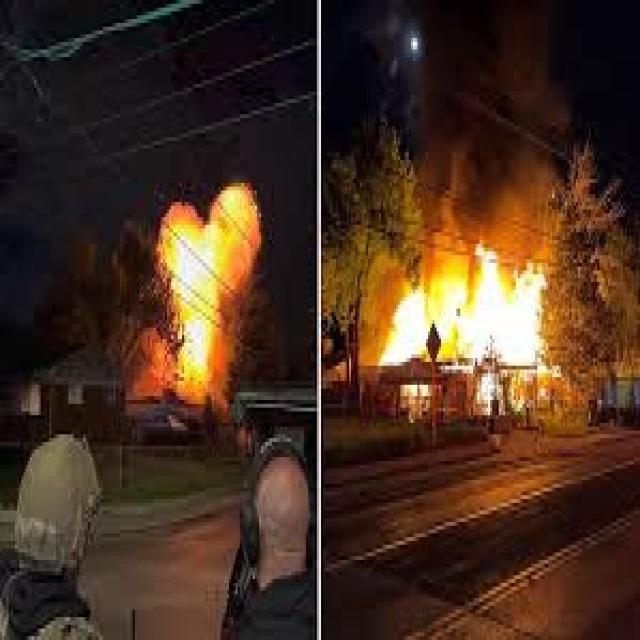fire: (135, 175, 263, 408), (387, 258, 553, 378)
